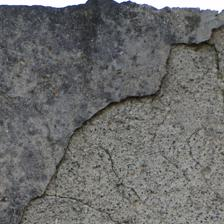Crack: (0, 32, 156, 224), (18, 138, 94, 219), (28, 0, 72, 71), (88, 154, 166, 187), (59, 10, 90, 66)
